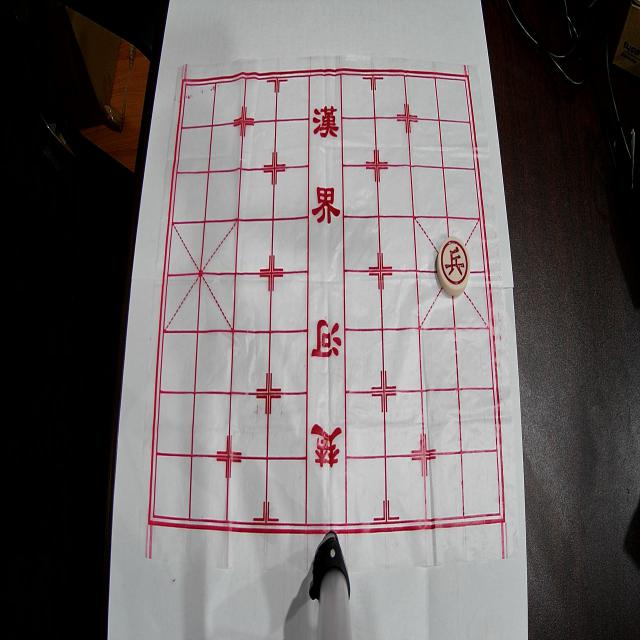red-soldier: (436, 237, 471, 296)
